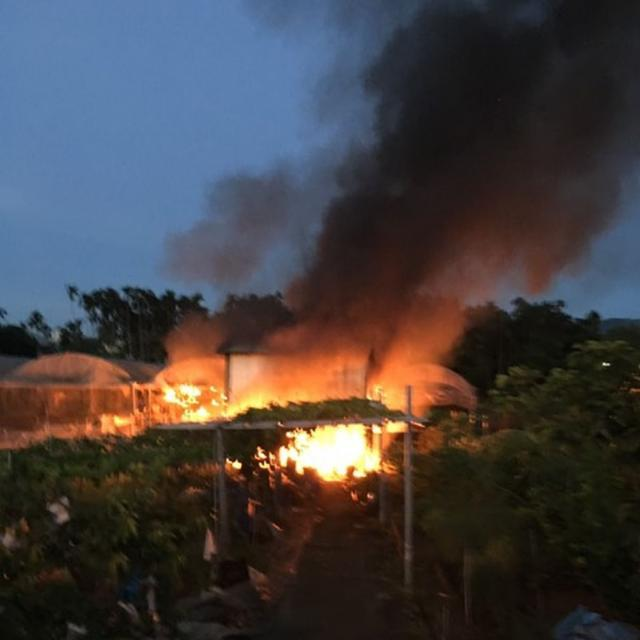Fire: (272, 408, 396, 478), (153, 380, 248, 424)
